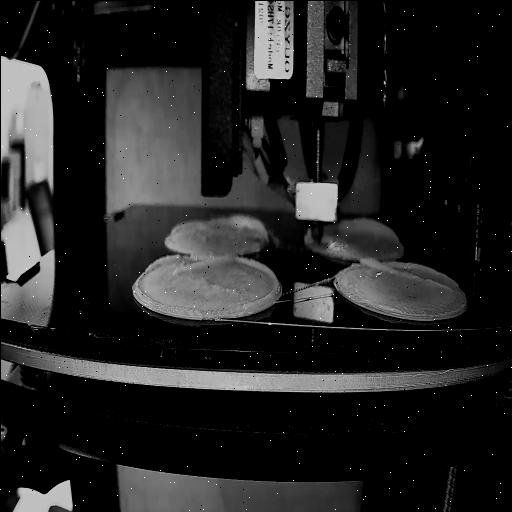over_extrusion: (358, 254, 452, 292), (234, 254, 278, 310), (145, 251, 233, 274), (338, 219, 400, 242), (216, 214, 268, 238), (170, 220, 194, 236)
